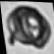correct: (1, 2, 54, 53)
